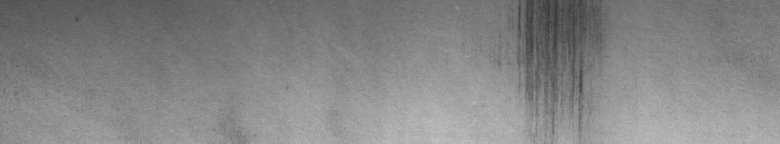ka: (509, 4, 588, 135)
